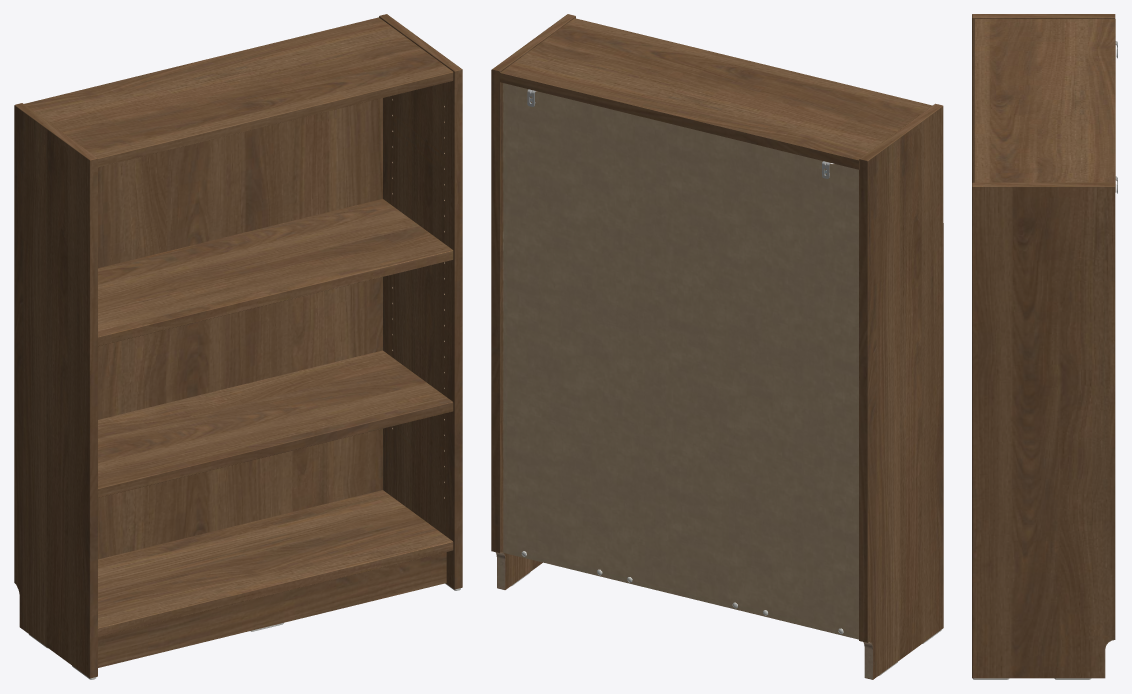
The picture shows the model from 3 angles, left to right: view 1: azimuth 30°, elevation 25°; view 2: azimuth 150°, elevation 25°; view 3: azimuth 270°, elevation 25°; orthographic projection. The views are drawn at different scales.
Parts seen in each view (by area): view 1: model; view 2: model; view 3: model.
Boxes of the visible parts, x1,y1,x2,y2 form: model: (14,14,462,679); model: (491,14,943,679); model: (972,14,1117,679).
Bounding box in the file's own units: 0.798 × 1.07 × 0.285.
1 material, 1 textured.
